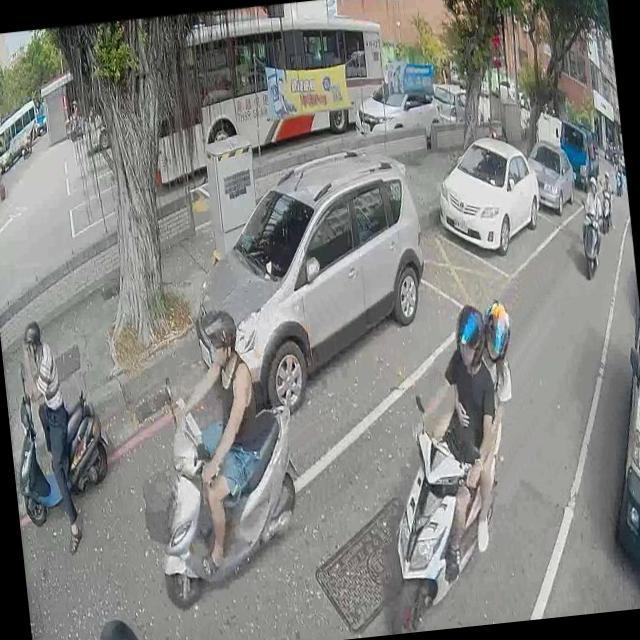person: (394, 288, 516, 589), (158, 294, 280, 584), (420, 296, 536, 550), (15, 314, 88, 552), (580, 174, 606, 264), (92, 613, 147, 640), (598, 168, 614, 214), (64, 96, 80, 132), (612, 156, 622, 182), (20, 124, 28, 146)
